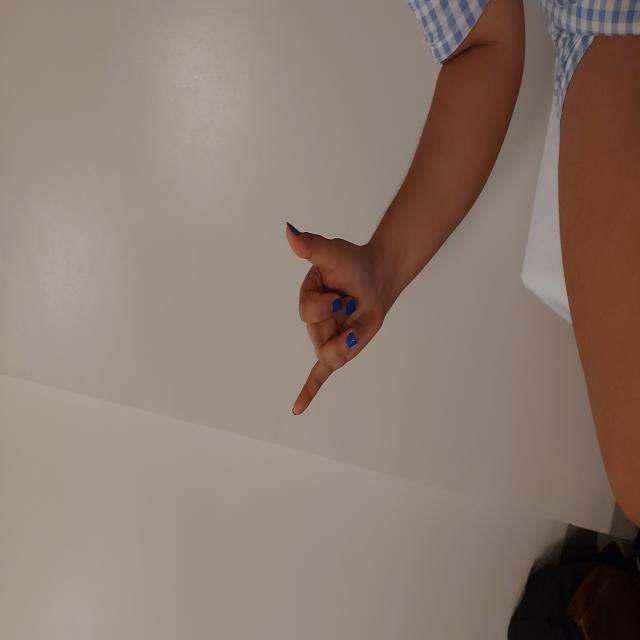Y: (219, 284, 422, 386)
